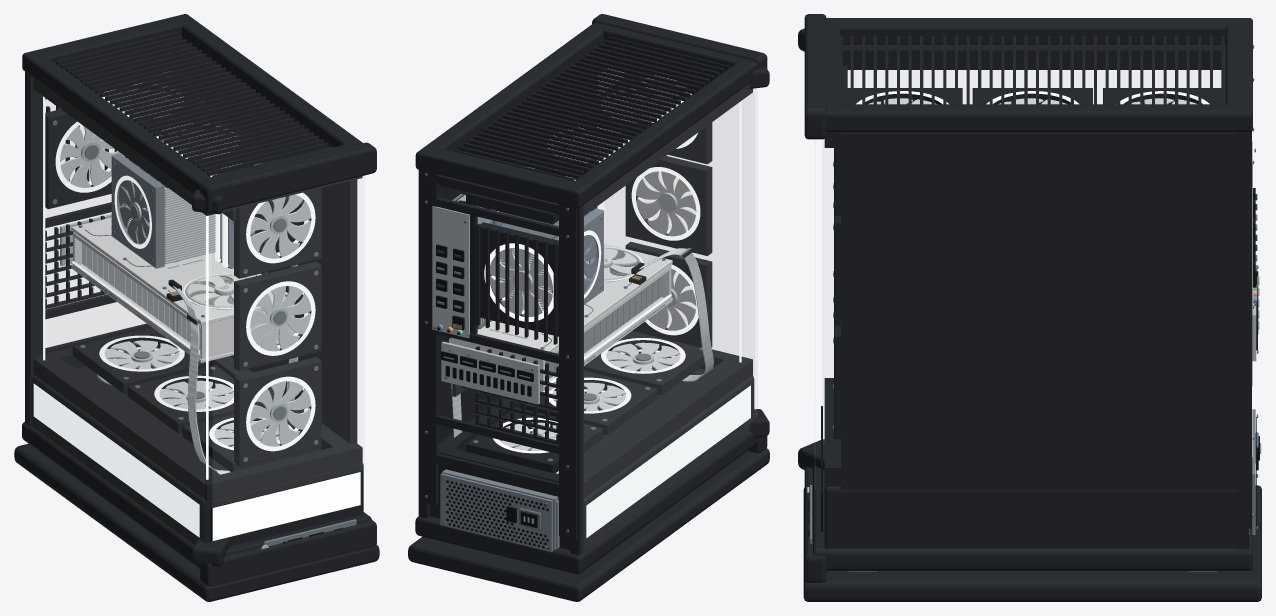
Rendered from showcase92-polar.glb.
3 views of the same model, side by side, from view 1: azimuth 30°, elevation 25°; view 2: azimuth 150°, elevation 25°; view 3: azimuth 270°, elevation 25° (orthographic). The views are drawn at different scales.
Visible parts, largest first — view 1: s83-surface-fda6ccaf-f3da-43c5-a3de-d49276f91c3b, s83-surface-55ccf859-6f18-4b77-88ea-c1528ddf1523, s83-surface-f10165b4-bc21-45f9-bcd7-403e1e78d6f1, s83-fan-13, s83-fan-14, s83-fan-15, s83-fan-12, s83-fan-9, s83-fan-10, s83-fan-5, s83-fan-4; view 2: s83-surface-fda6ccaf-f3da-43c5-a3de-d49276f91c3b, s83-surface-b24f6592-529d-413f-80d1-1d53b737f16b, s83-surface-55ccf859-6f18-4b77-88ea-c1528ddf1523, s83-surface-f10165b4-bc21-45f9-bcd7-403e1e78d6f1, s83-fan-14, s83-fan-12, s83-fan-11, s83-fan-13, s83-fan-10, s83-fan-4, s83-fan-5; view 3: s83-surface-fda6ccaf-f3da-43c5-a3de-d49276f91c3b, s83-surface-f10165b4-bc21-45f9-bcd7-403e1e78d6f1.
Boxes of the visible parts, x1,y1,x2,y2 form: s83-surface-fda6ccaf-f3da-43c5-a3de-d49276f91c3b: (14, 14, 379, 601); s83-surface-55ccf859-6f18-4b77-88ea-c1528ddf1523: (33, 213, 360, 540); s83-surface-f10165b4-bc21-45f9-bcd7-403e1e78d6f1: (43, 83, 315, 479); s83-fan-13: (250, 381, 311, 446); s83-fan-14: (250, 286, 311, 351); s83-fan-15: (250, 194, 311, 258); s83-fan-12: (60, 125, 123, 187); s83-fan-9: (104, 340, 179, 371); s83-fan-10: (159, 380, 233, 411); s83-fan-5: (118, 180, 151, 244); s83-fan-4: (185, 275, 245, 309); s83-surface-fda6ccaf-f3da-43c5-a3de-d49276f91c3b: (408, 14, 769, 601); s83-surface-b24f6592-529d-413f-80d1-1d53b737f16b: (604, 88, 755, 375); s83-surface-55ccf859-6f18-4b77-88ea-c1528ddf1523: (586, 247, 750, 537); s83-surface-f10165b4-bc21-45f9-bcd7-403e1e78d6f1: (484, 75, 741, 453); s83-fan-14: (636, 171, 696, 236); s83-fan-12: (490, 248, 552, 316); s83-fan-11: (606, 342, 680, 373); s83-fan-13: (649, 268, 696, 330); s83-fan-10: (552, 382, 625, 413); s83-fan-4: (604, 248, 638, 282); s83-fan-5: (584, 235, 596, 292); s83-surface-fda6ccaf-f3da-43c5-a3de-d49276f91c3b: (798, 14, 1261, 601); s83-surface-f10165b4-bc21-45f9-bcd7-403e1e78d6f1: (856, 91, 1209, 104).
Bounding box in the file's own units: 1.37 × 3 × 2.56.
Materials: 22 (21 with a texture image).
